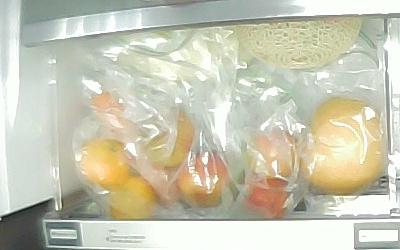carrot_vinyl: (93, 95, 179, 204)
melon: (239, 17, 364, 70)
pear_vinyl: (303, 95, 385, 194)
prune_vinyl: (145, 108, 196, 170), (177, 151, 229, 211), (246, 126, 301, 179)
tangerine_vinyl: (74, 138, 130, 191), (109, 176, 156, 220)
tomato_vinyl: (245, 173, 296, 220)
